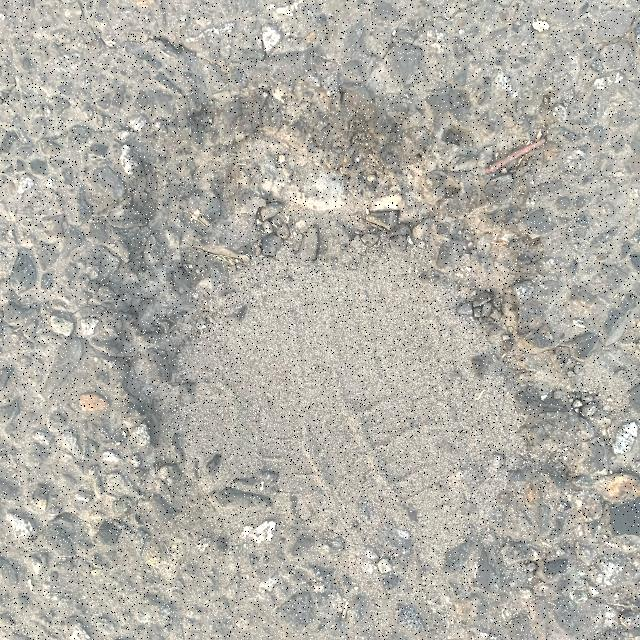damaged: (85, 90, 581, 564)
